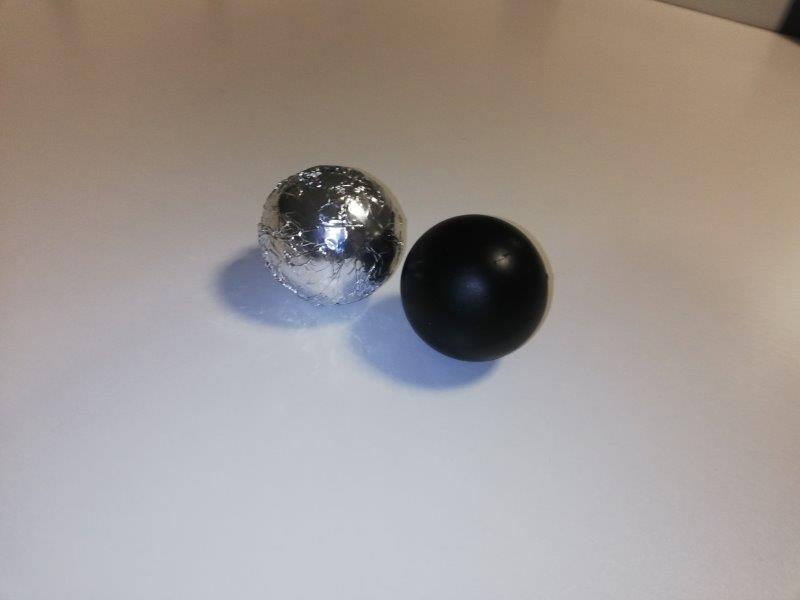bianca: (260, 162, 403, 306)
nera: (404, 215, 551, 363)
